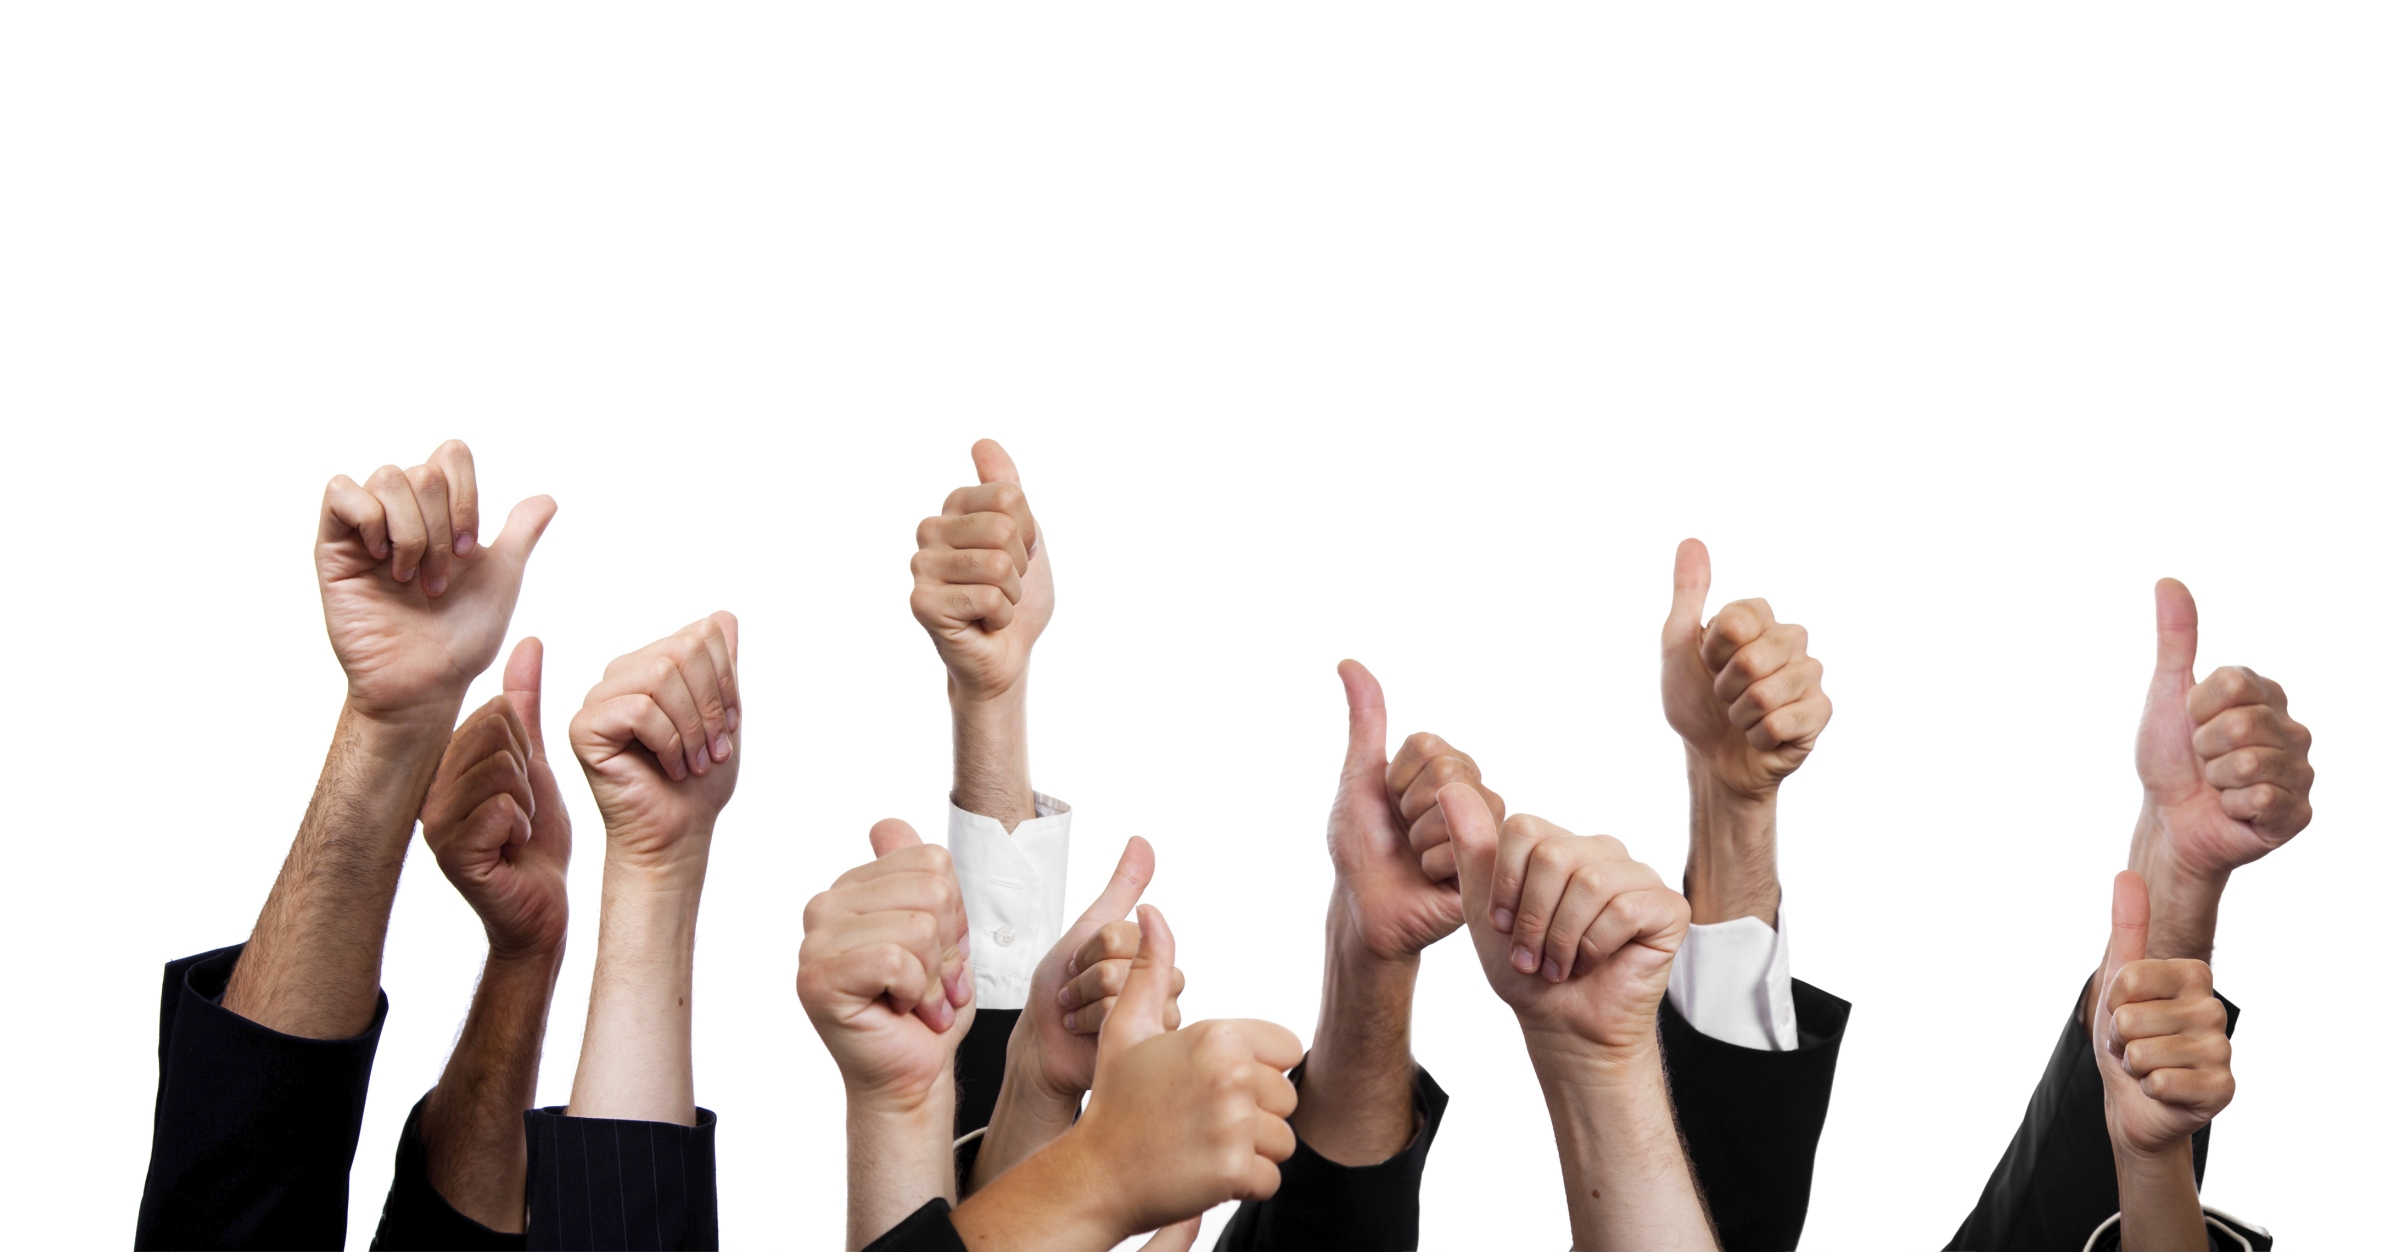thumbsup: (1122, 903, 1304, 1204), (1434, 782, 1691, 989), (2151, 573, 2313, 835), (1334, 654, 1509, 887), (1668, 536, 1834, 757), (2101, 866, 2236, 1112), (435, 635, 544, 879), (908, 436, 1039, 636)
